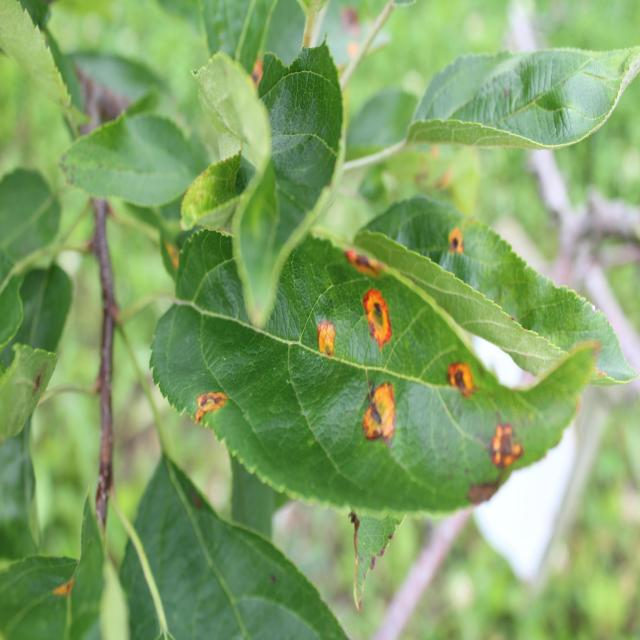Rust: (486, 401, 528, 526), (356, 370, 409, 469), (354, 274, 412, 362), (435, 198, 487, 290), (428, 334, 479, 422), (169, 373, 233, 437), (333, 215, 392, 283), (313, 297, 350, 385)
